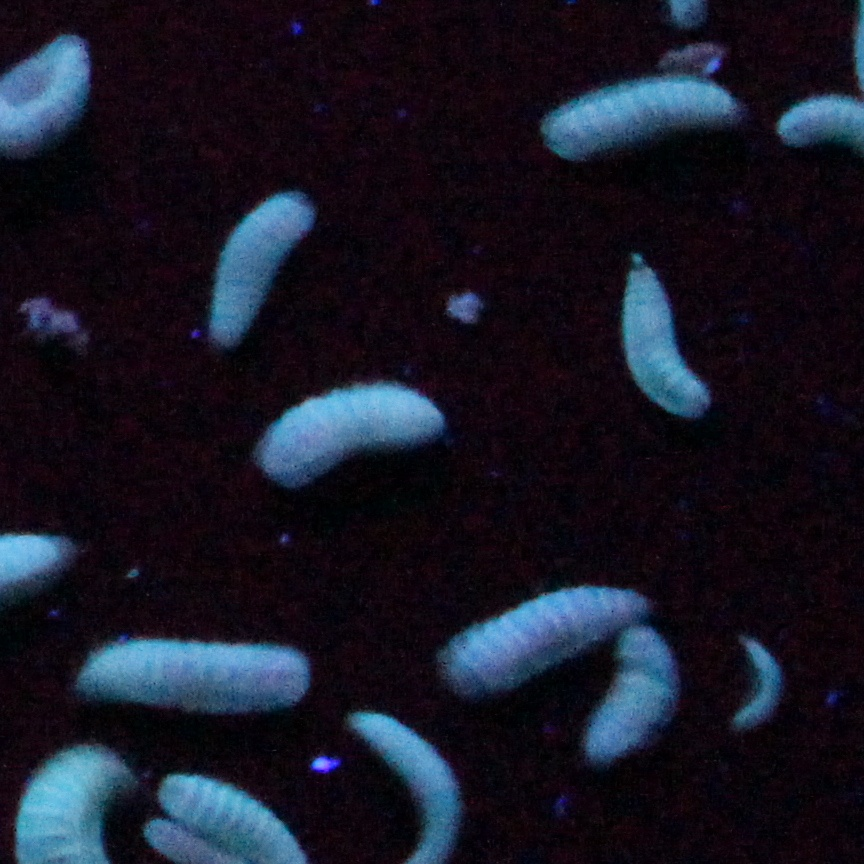larve: (256, 377, 448, 485), (441, 587, 643, 689), (207, 184, 323, 346), (544, 69, 738, 156), (603, 248, 705, 413), (77, 641, 316, 705), (584, 620, 685, 762), (725, 628, 780, 735)
